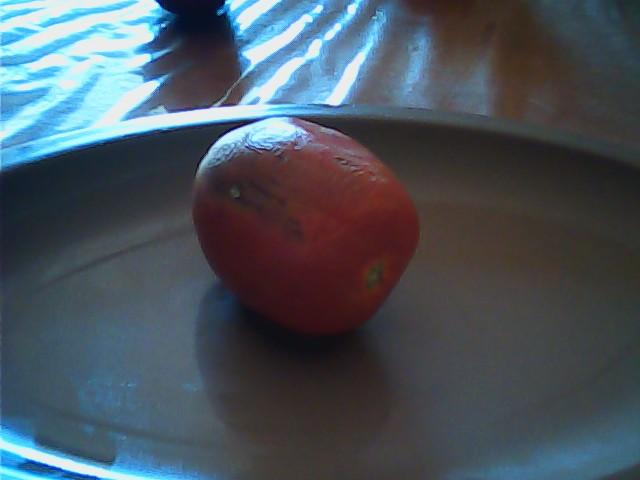defectuoso: (183, 116, 420, 333)
